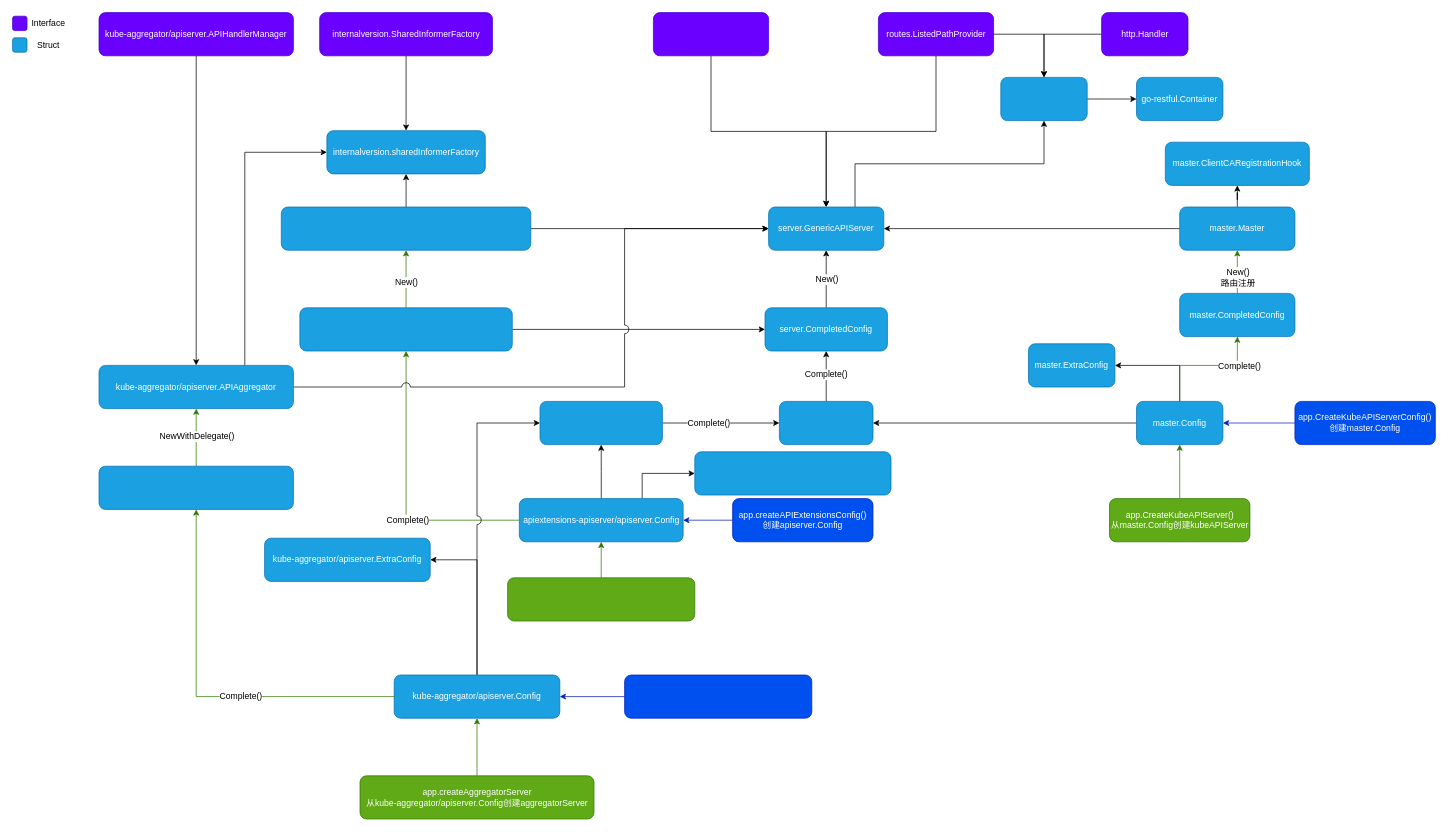
The diagram is 1448 pixels wide and 832 high, and some of its shapes have lost their labels. The shapes that lost their labels are listed below. From the top down, each one's centre as x and y in pixels, then its label:
At (x=711, y=34): "server.DelegationTarget".
At (x=1043, y=99): "APIServerHandler".
At (x=406, y=228): "apiextensions-apiserver/apiserver.CustomResourceDefinitions".
At (x=405, y=329): "apiextensions-apiserver/apiserver.CompletedConfig".
At (x=600, y=423): "server.RecommendedConfig".
At (x=826, y=423): "server.Config".
At (x=195, y=487): "kube-aggregator/apiserver.CompletedConfig".
At (x=792, y=473): "apiextensions-apiserver/apiserver.ExtraConfig".
At (x=601, y=599): "app.createAPIExtensionsServer() 从apiserver.Config创建apiExtensionsServer".
At (x=718, y=696): "app.createAggregatorConfig 创建kube-aggregator/apiserver.Config".
